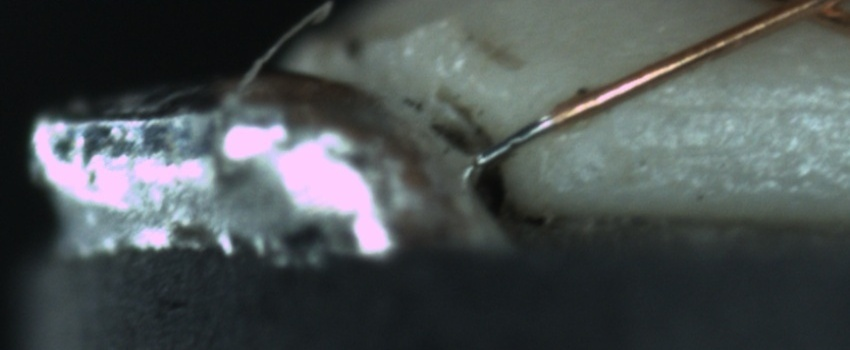CL: (749, 0, 839, 32)
DL: (626, 69, 845, 139)
TS: (474, 113, 555, 167)
TTCW: (472, 83, 612, 166)
